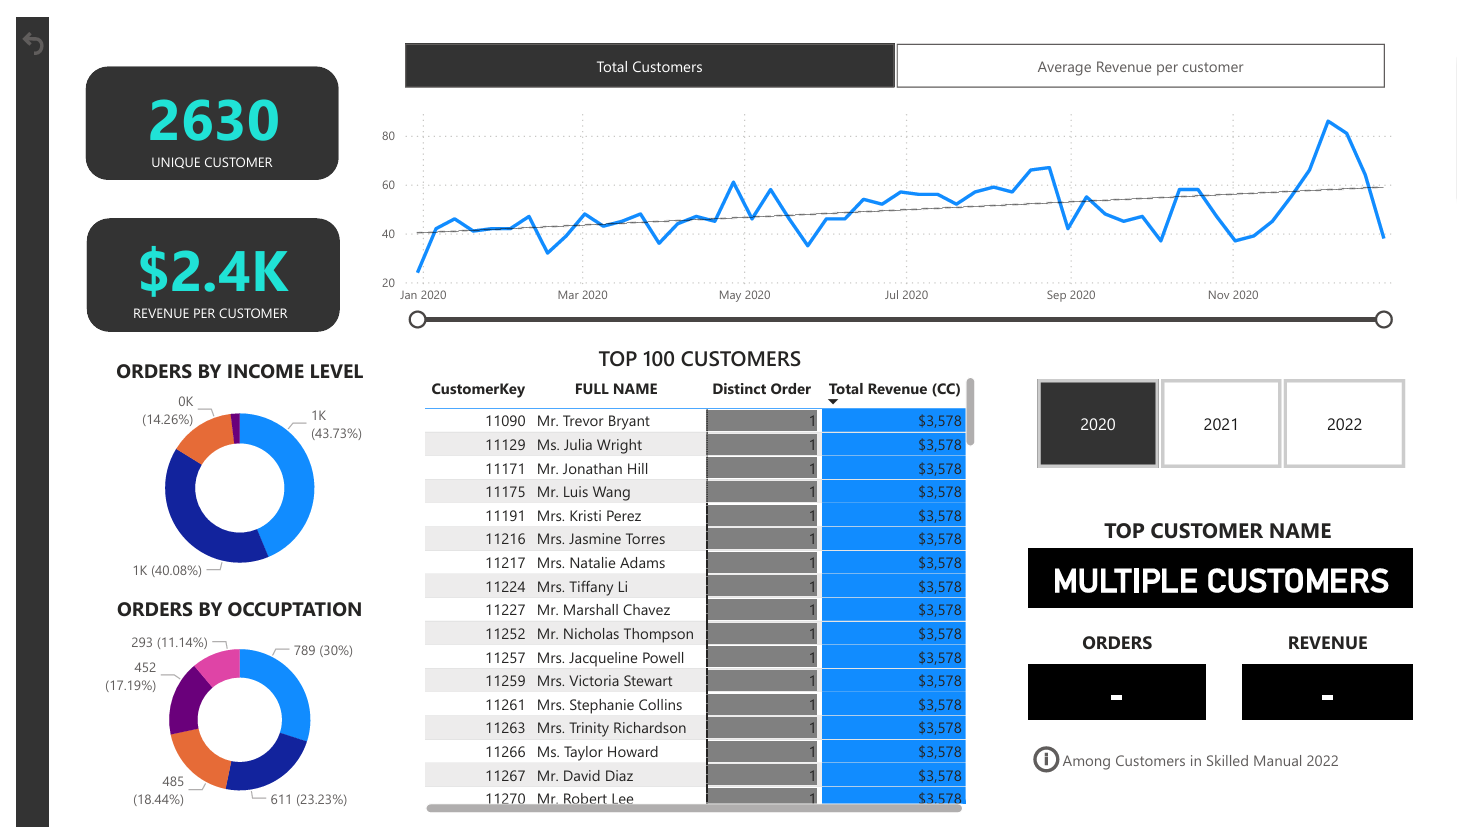

The dashboard page shown, as its layout file describes it:
{"tool":"powerbi","page":{"name":"CUSTOMER DETAILS ","canvas":[1280,720],"ordinal":3},"visuals":[{"type":"lineChart","title":"TOTAL CUSTOMERS","fields":{"Y":["Explicit Measure.Total Customers"],"Category":["Calendar Lookup.DATE HIERARCHY.Start of Year","Calendar Lookup.DATE HIERARCHY.Start of Month","Calendar Lookup.DATE HIERARCHY.Start of Week","Calendar Lookup.DATE HIERARCHY.Date"]},"box":[318.8,69,923.7,210.3],"z":0},{"type":"shape","box":[0,0,28.6,720],"z":1000},{"type":"shape","box":[61.7,178.3,225.1,100.6],"z":2000},{"type":"card","fields":{"Values":["Explicit Measure.Average Revenue per customer"]},"box":[61.1,178.6,225,100.6],"z":3000},{"type":"shape","box":[60.6,43.4,225.1,100.6],"z":4000},{"type":"card","fields":{"Values":["Explicit Measure.Total Customers"]},"box":[63.3,45.2,223.9,100.6],"z":5000},{"type":"donutChart","title":"ORDERS BY INCOME LEVEL ","fields":{"Category":["Customer Lookup.Income Level"],"Y":["Explicit Measure.Distinct Order"]},"box":[61.2,301.2,273.8,211.2],"z":6000},{"type":"donutChart","title":"ORDERS BY  OCCUPTATION","fields":{"Y":["Explicit Measure.Distinct Order"],"Category":["Customer Lookup.Occupation"]},"box":[61.2,512.5,273.8,200],"z":7000},{"type":"tableEx","title":"TOP 100 CUSTOMERS","fields":{"Values":["Customer Lookup.CustomerKey","Customer Lookup.FULL NAME","Explicit Measure.Distinct Order","Explicit Measure.Total Revenue (CC)"]},"box":[356.6,289.1,500.6,422.9],"z":8000},{"type":"card","fields":{"Values":["Explicit Measure.FULL NAME (CD)"]},"box":[898.5,472.2,342.9,52.6],"z":9000},{"type":"card","fields":{"Values":["Explicit Measure.DETAIL (ORDERS)"]},"box":[898.5,575.1,158.9,49.1],"z":10000},{"type":"card","fields":{"Values":["Explicit Measure.DETAIL (REVENUE)"]},"box":[1089.4,575.1,152,49.1],"z":11000},{"type":"textbox","box":[898.5,436.8,342.9,35.4],"z":12000},{"type":"textbox","box":[898.5,538.5,158.9,36.6],"z":13000},{"type":"textbox","box":[1089.4,538.5,152,36.6],"z":14000},{"type":"slicer","fields":{"Values":["Calendar Lookup.Year"]},"box":[881.1,314.3,377.1,92.6],"z":15000},{"type":"actionButton","box":[898.8,642.5,280,32.5],"z":16000},{"type":"actionButton","box":[0,0,28.8,43.8],"z":17000},{"type":"slicer","fields":{"Values":["Customer Metrics Selection.Customer Metrics Selection"]},"box":[318.8,15.8,921.5,53.1],"z":19000}]}

Visuals, with their boxes in screenshot pixels (x1, y1, x2, y2), scaled from the page's 1280x720 canvas onto the 1470x833 screenshot:
"TOTAL CUSTOMERS" lineChart: detection(366, 80, 1427, 323)
shape: detection(0, 0, 33, 832)
shape: detection(71, 206, 329, 323)
card - Explicit Measure.Average Revenue per customer: detection(70, 207, 329, 323)
shape: detection(70, 50, 328, 167)
card - Explicit Measure.Total Customers: detection(73, 52, 330, 169)
"ORDERS BY INCOME LEVEL " donutChart: detection(70, 348, 385, 593)
"ORDERS BY  OCCUPTATION" donutChart: detection(70, 593, 385, 824)
"TOP 100 CUSTOMERS" tableEx: detection(410, 334, 984, 824)
card - Explicit Measure.FULL NAME (CD): detection(1032, 546, 1426, 607)
card - Explicit Measure.DETAIL (ORDERS): detection(1032, 665, 1214, 722)
card - Explicit Measure.DETAIL (REVENUE): detection(1251, 665, 1426, 722)
textbox: detection(1032, 505, 1426, 546)
textbox: detection(1032, 623, 1214, 665)
textbox: detection(1251, 623, 1426, 665)
slicer - Calendar Lookup.Year: detection(1012, 364, 1445, 471)
actionButton: detection(1032, 743, 1354, 781)
actionButton: detection(0, 0, 33, 51)
slicer - Customer Metrics Selection.Customer Metrics Selection: detection(366, 18, 1424, 80)
